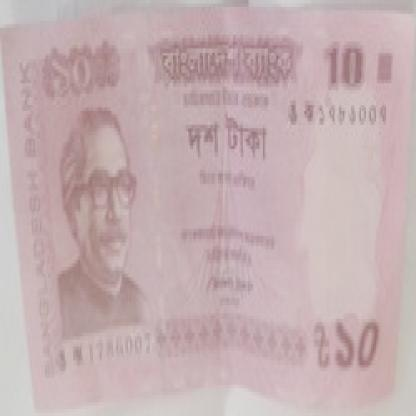Ten Taka: (336, 291, 388, 392), (313, 14, 369, 97), (35, 42, 106, 100)
